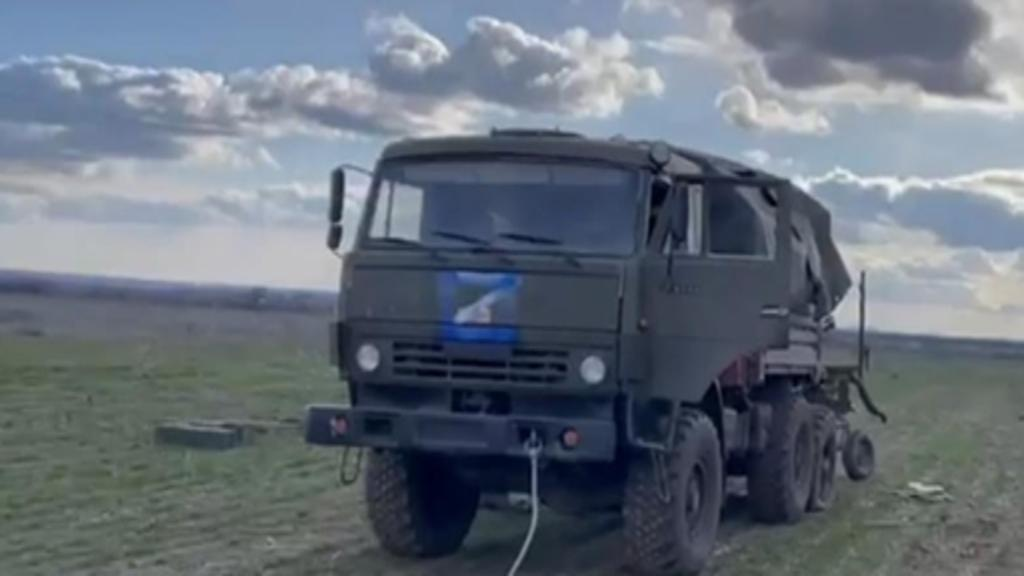TRUCK: (308, 119, 864, 571)
